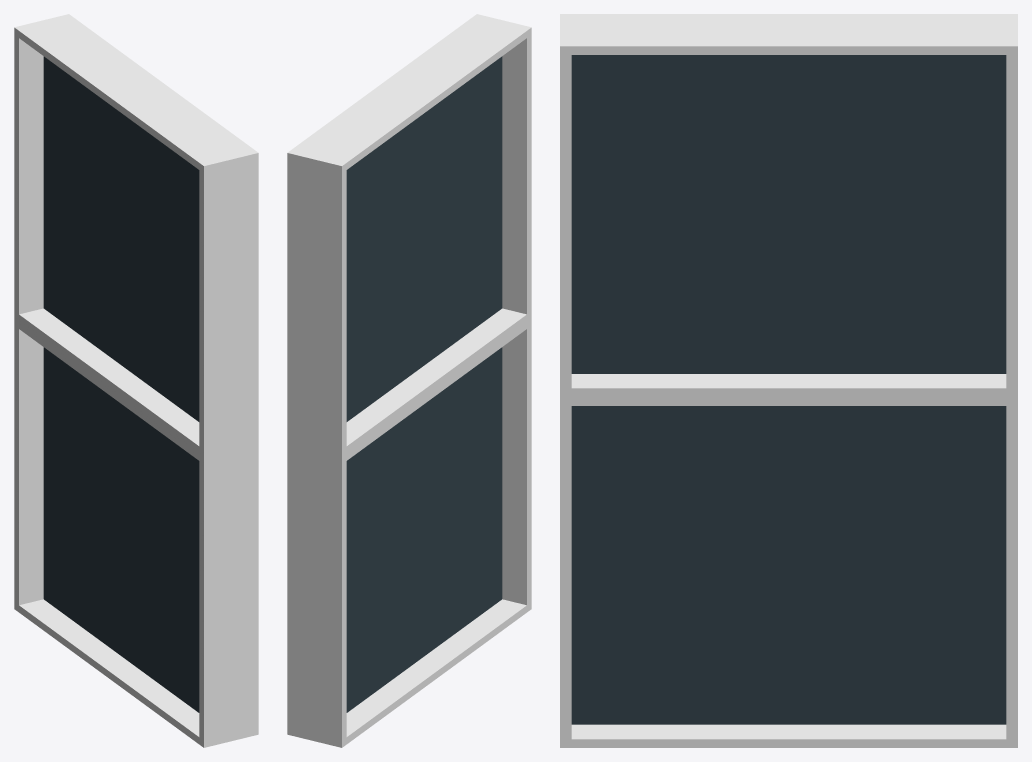
File: Janela.fbx
3 views of the same model, side by side, from view 1: azimuth 30°, elevation 25°; view 2: azimuth 150°, elevation 25°; view 3: azimuth 270°, elevation 25° (orthographic). The views are drawn at different scales.
Visible parts, largest first — view 1: Janela1X2; view 2: Janela1X2; view 3: Janela1X2.
Part boxes in pixels (left/top/right/bottom): Janela1X2: left=14, top=14, right=258, bottom=747; Janela1X2: left=287, top=14, right=531, bottom=747; Janela1X2: left=560, top=14, right=1017, bottom=747.
Size of the model in its own units: 20 by 203 by 120.
